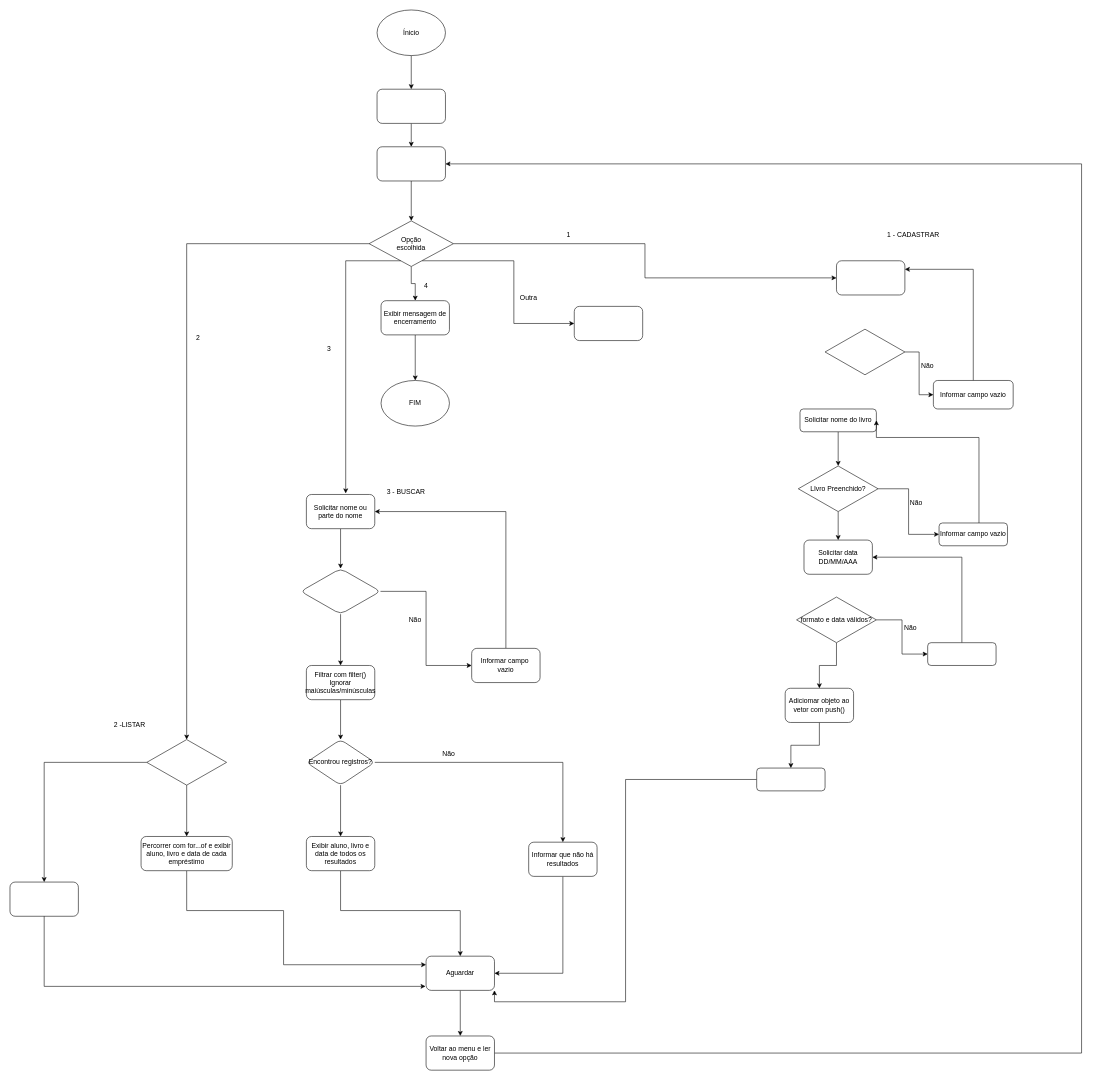
Some shapes in this 1096 by 1080 pixel diagram are drawn without their labels. The shapes that lost their labels are listed below. From the top down, each one's box as (x1, y1, x2, y2) in pixels, then its label:
(376, 89, 445, 123): Criar vetor vazio de empréstimos
(376, 146, 445, 181): Exibir menu e ler opção
(836, 260, 905, 295): Solcitar nome do aluno
(574, 306, 643, 341): Informar opção inválida
(825, 329, 905, 375): Nome preenchido?
(300, 568, 380, 614): Busca preenchida?
(927, 642, 996, 665): Informar data válida
(146, 739, 227, 785): Vetor vazio
(756, 768, 825, 791): Confirmar cadastro
(9, 882, 78, 916): Informar ausência de empréstimos
